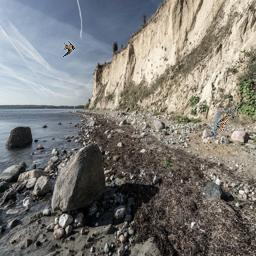Sparrow: (211, 106, 237, 140)
Swallow: (60, 40, 75, 57)
